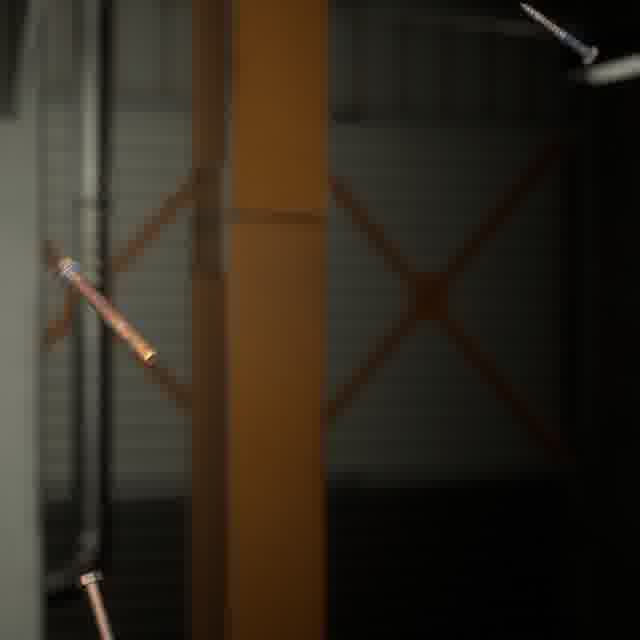bolt: (49, 252, 162, 369), (515, 0, 603, 70), (71, 566, 119, 640)
